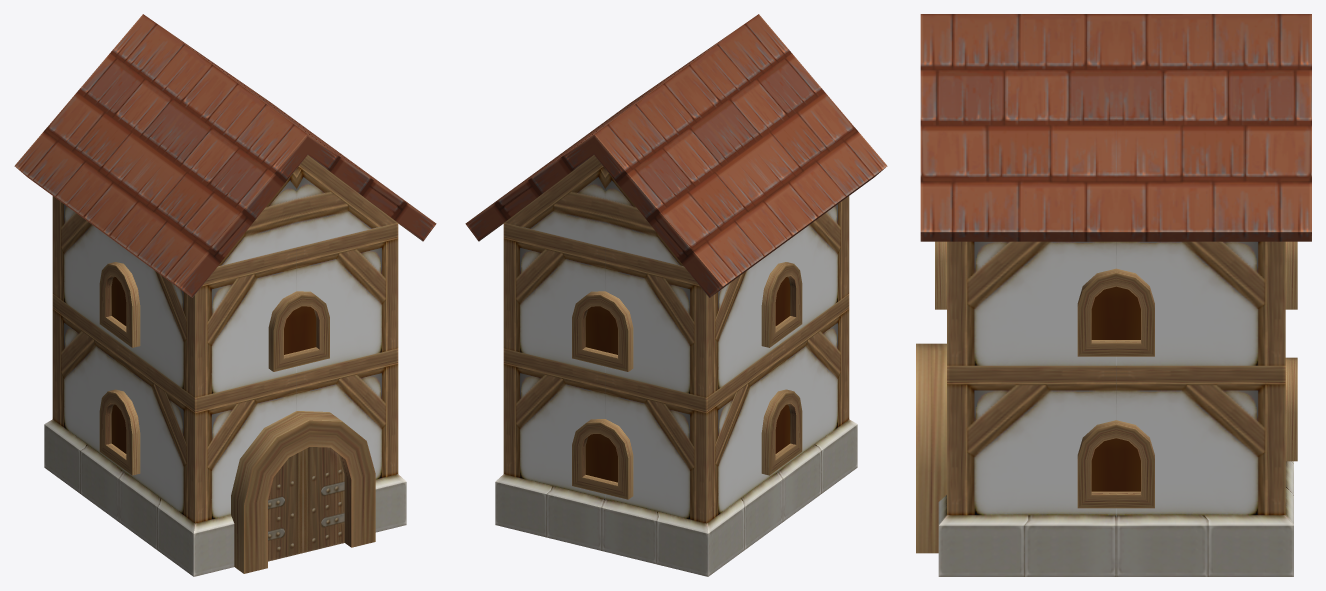
The model's file is House02.FBX.
3 views of the same model, side by side, from view 1: azimuth 30°, elevation 25°; view 2: azimuth 150°, elevation 25°; view 3: azimuth 270°, elevation 25° (orthographic). The views are drawn at different scales.
Visible parts, largest first — view 1: House02; view 2: House02; view 3: House02.
Part boxes in pixels (x1,y1,x2,y2): House02: [14, 14, 436, 576]; House02: [465, 14, 887, 576]; House02: [916, 14, 1311, 576].
Bounding box in the file's own units: 343 × 537 × 384.
